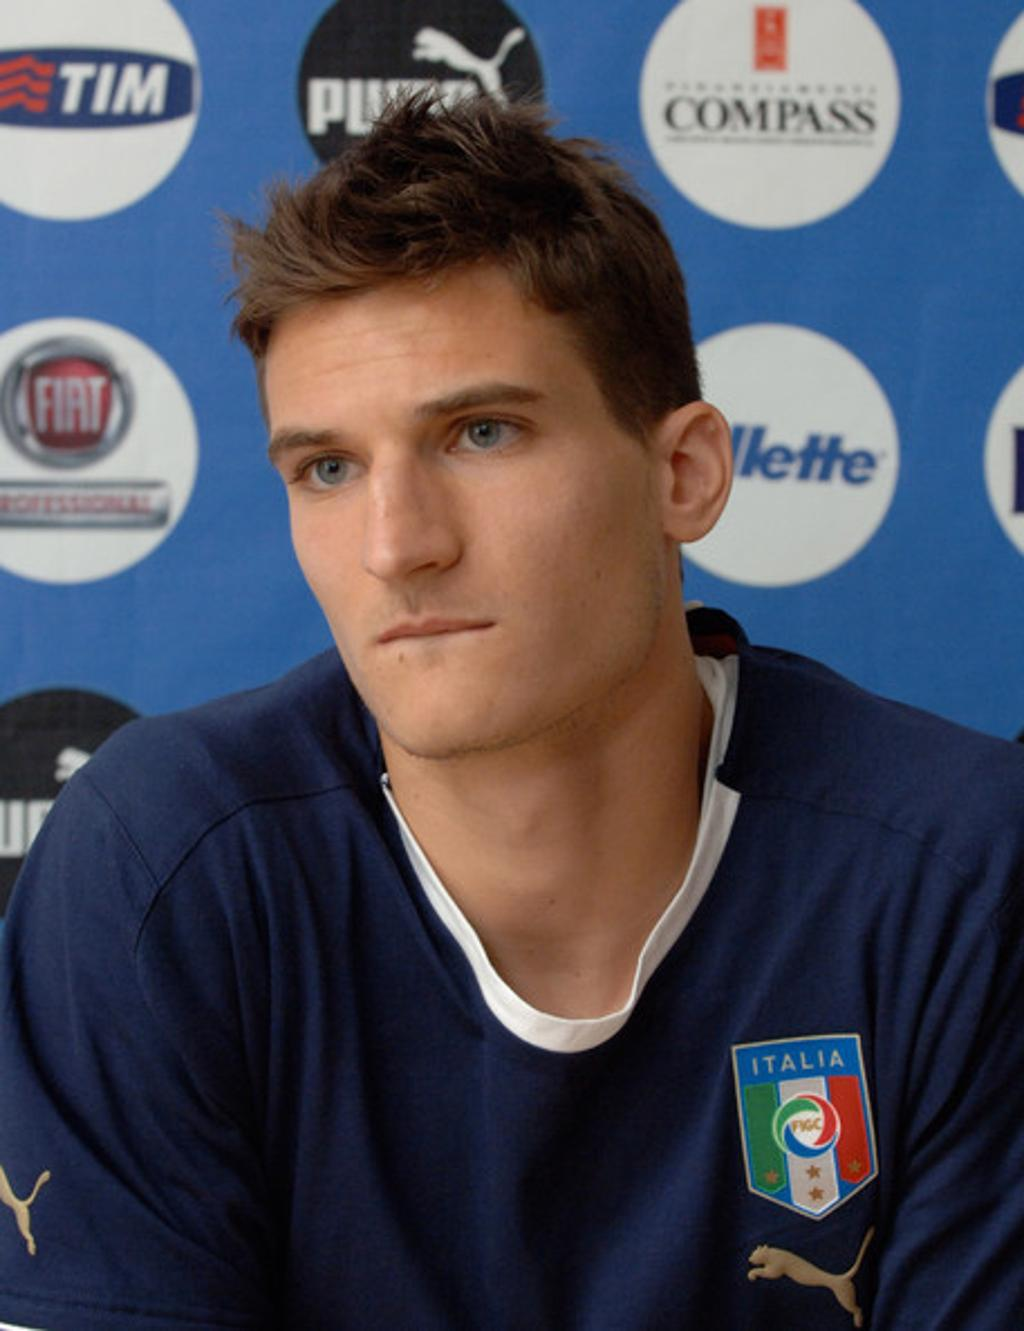face: (258, 287, 666, 752)
